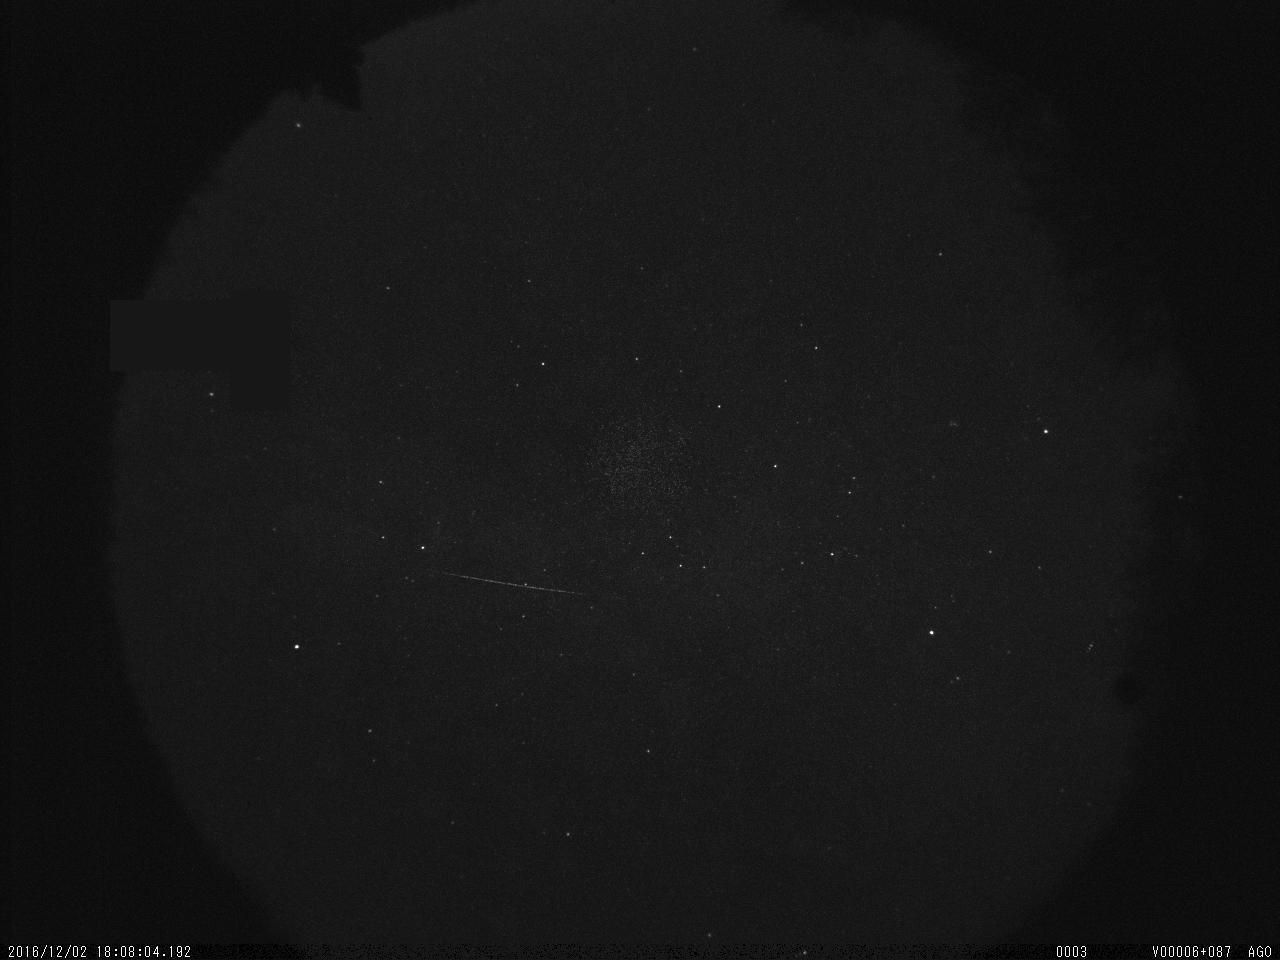meteor: (431, 562, 603, 603)
